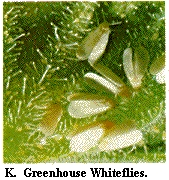whitefly: (75, 8, 119, 65), (81, 63, 133, 101), (68, 92, 117, 119), (123, 46, 149, 91)
